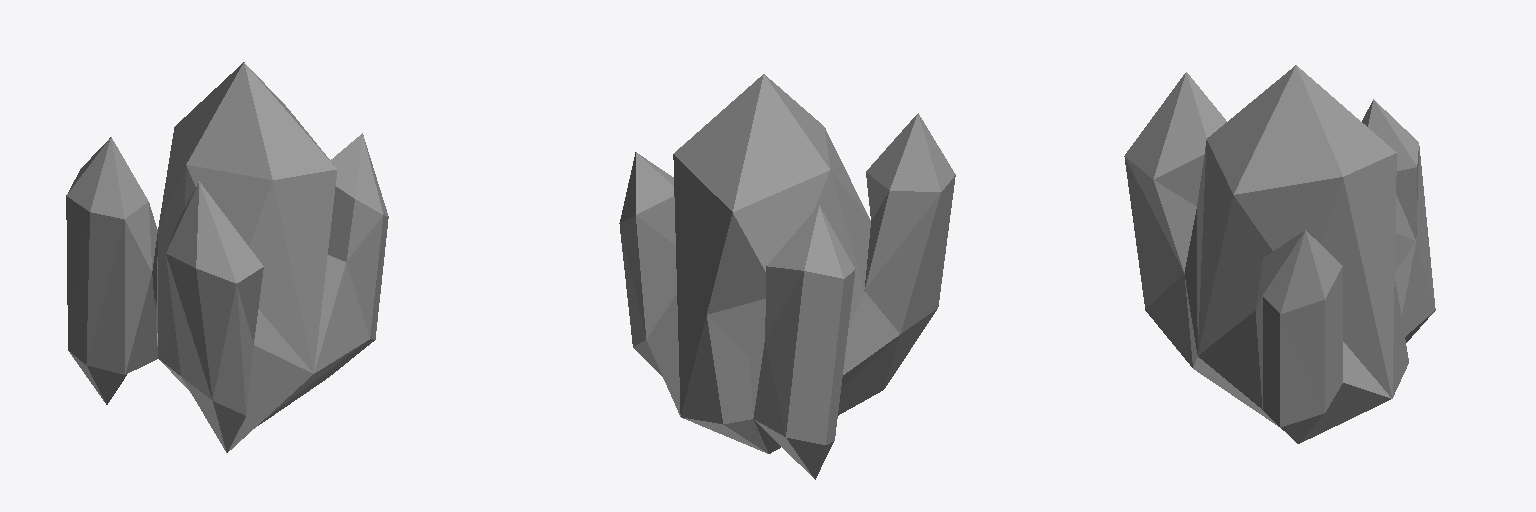
The model's file is crystal.obj.
The picture shows the model from 3 angles: view 1: azimuth 30°, elevation 25°; view 2: azimuth 150°, elevation 25°; view 3: azimuth 270°, elevation 25°; orthographic projection.
Visible parts, largest first — view 1: none; view 2: none; view 3: none.
Boxes of the visible parts, box(x1,y1,x2,y2) form: none: box(66, 62, 388, 452); none: box(619, 74, 955, 479); none: box(1124, 65, 1435, 443).
Size of the model in its own units: 0.0733 by 0.0996 by 0.0743.